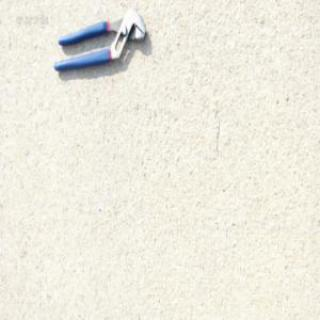Pliertrack_idkeyframe: (52, 7, 146, 72)
